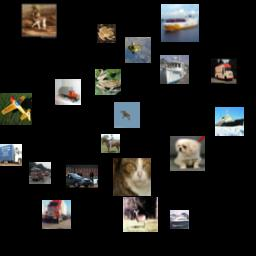airplane: (0, 93, 32, 125)
automobile: (66, 160, 98, 192)
bird: (114, 102, 140, 128)
cat: (113, 158, 151, 196)
deer: (20, 1, 58, 39), (123, 197, 158, 232)
dog: (170, 136, 205, 171)
frog: (125, 37, 151, 63), (95, 69, 121, 95), (97, 24, 116, 43)
ship: (161, 4, 199, 42), (160, 55, 189, 84), (215, 107, 244, 136), (170, 210, 189, 229)
truck: (42, 200, 71, 229), (55, 79, 81, 105), (211, 58, 237, 84), (29, 162, 51, 184), (0, 144, 22, 166)
